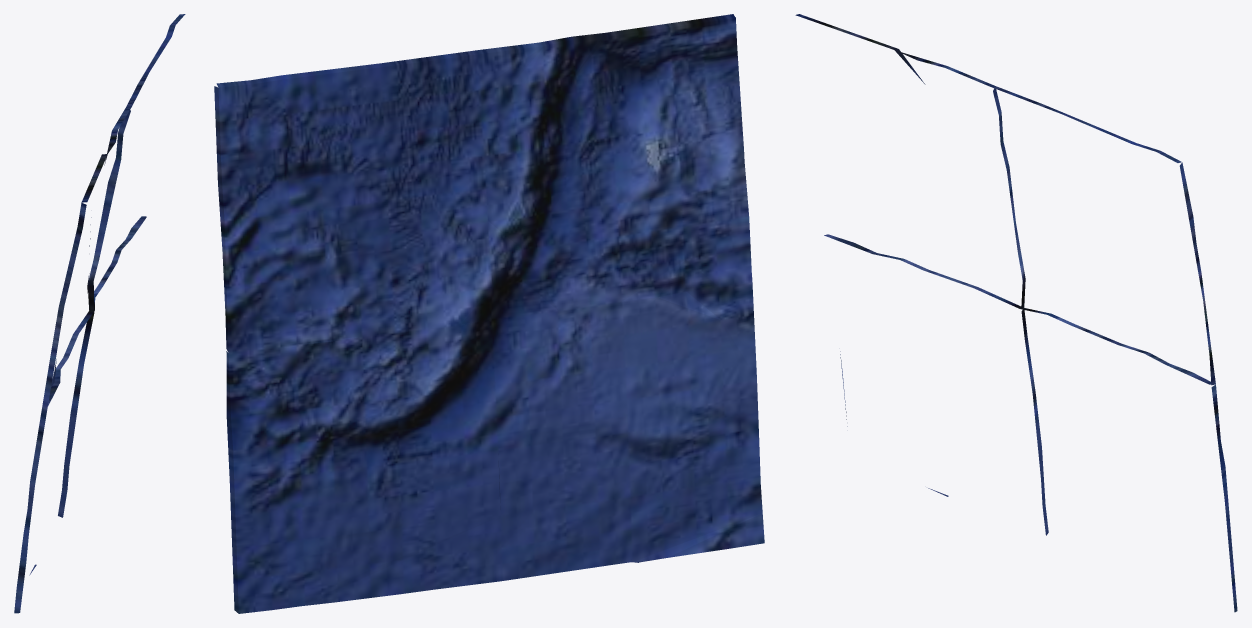
3 views of the same model, side by side, from view 1: azimuth 30°, elevation 25°; view 2: azimuth 150°, elevation 25°; view 3: azimuth 270°, elevation 25° (orthographic). The views are drawn at different scales.
Bounding box in the file's own units: 493991 × 623755 × 526689.
Materials: 1 (1 with a texture image).
